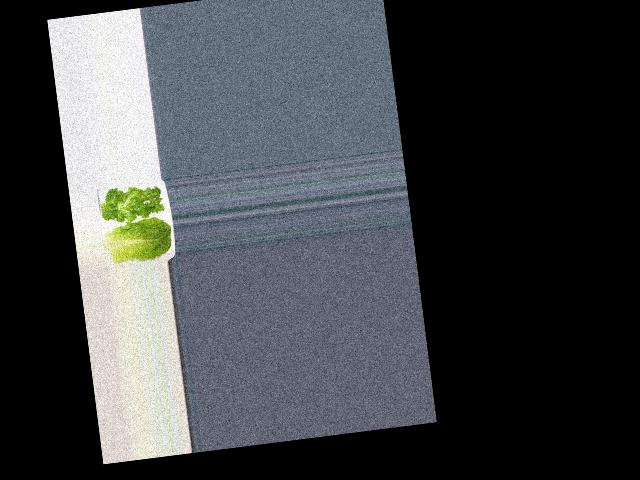lettuce: (100, 178, 165, 223)
